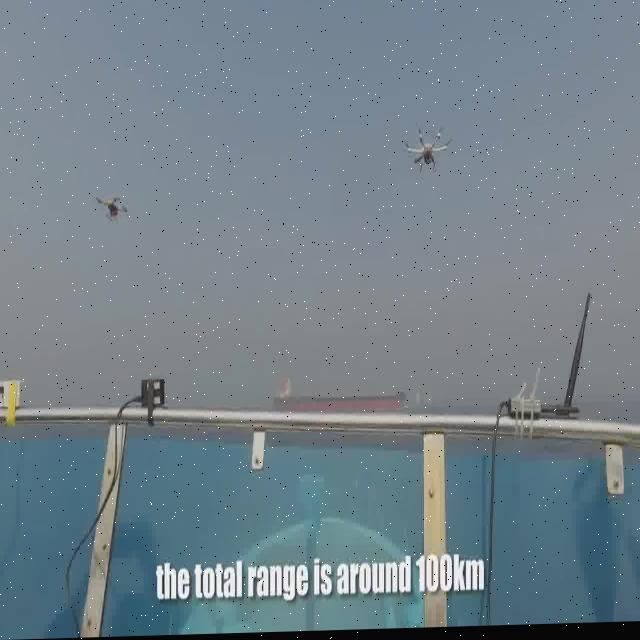drone: (402, 121, 452, 173), (94, 192, 130, 223)
